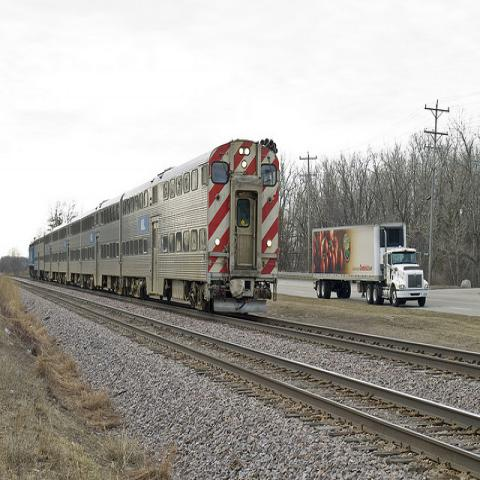truck: (313, 221, 428, 309)
